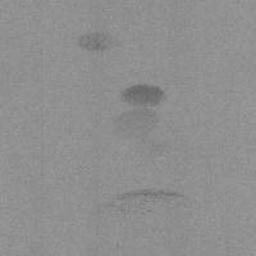Oil spot: (114, 83, 166, 136), (117, 189, 184, 203), (78, 32, 113, 52), (152, 143, 162, 151), (104, 202, 115, 208), (118, 205, 125, 213)
